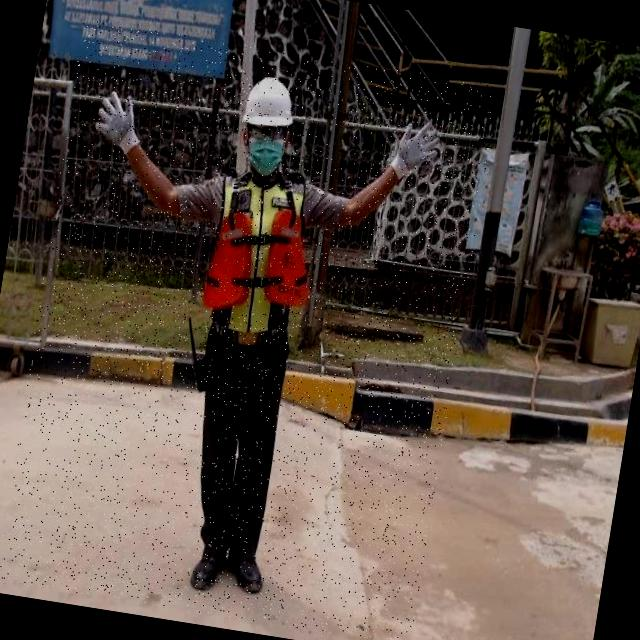boots: (188, 535, 230, 601), (224, 546, 270, 601)
gloves: (78, 76, 162, 162), (380, 102, 460, 186)
helmet: (241, 73, 300, 132)
vest: (196, 169, 323, 344)
